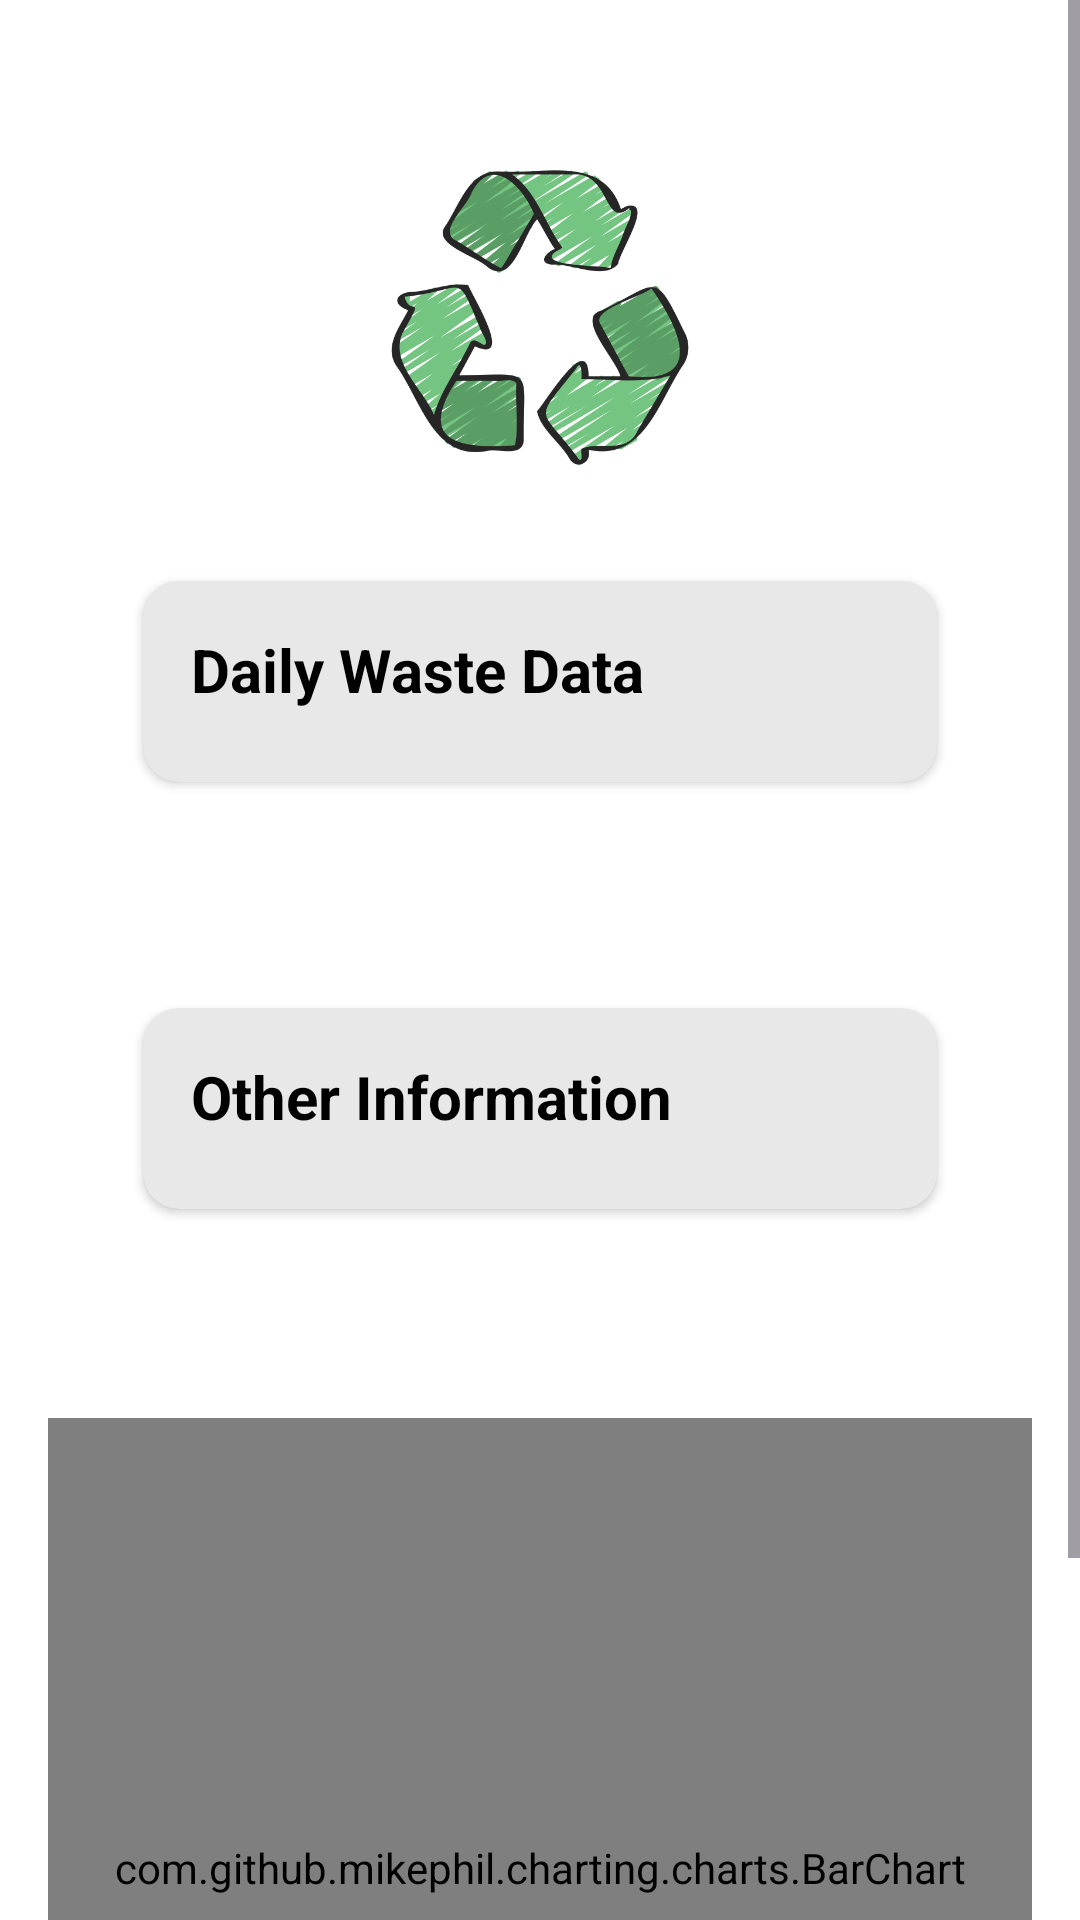

Icon click points for this 1080×1920 phone screenshot, format (x=x, y=y):
recycle: (x=540, y=317)
